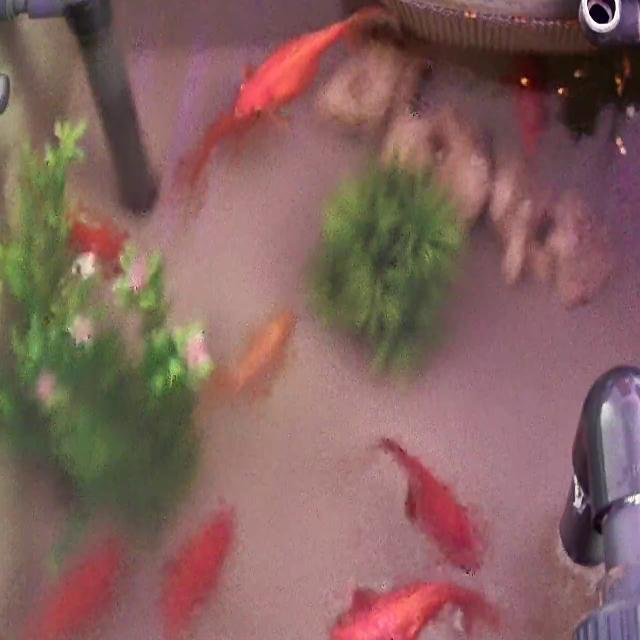fish: (378, 434, 486, 568), (238, 9, 358, 124), (0, 533, 125, 640), (158, 499, 238, 640), (197, 308, 293, 421), (330, 576, 496, 640), (173, 99, 264, 210), (502, 56, 550, 157), (64, 213, 134, 275)
